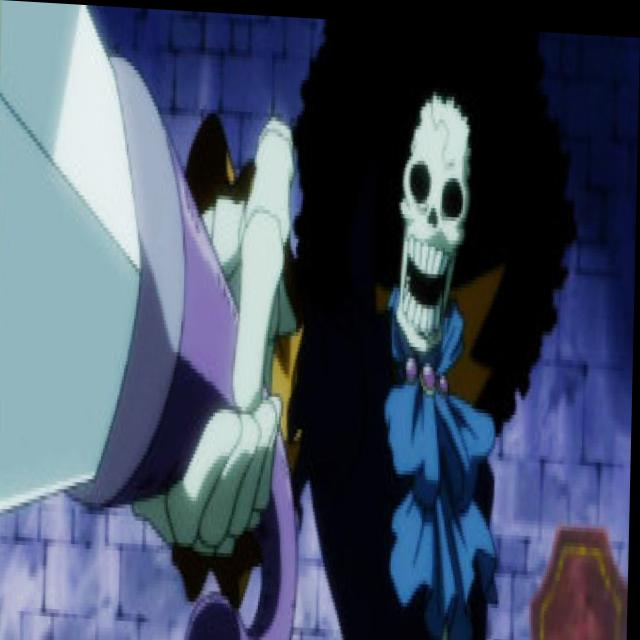Blook: (289, 14, 539, 408)
